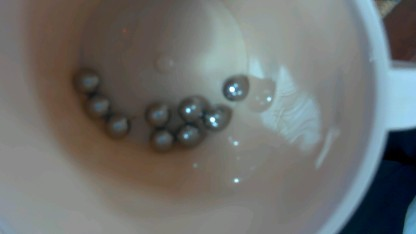ironball: (219, 71, 251, 100), (79, 93, 111, 122), (105, 114, 134, 141), (70, 66, 100, 91), (142, 100, 170, 125), (175, 122, 200, 150), (204, 105, 227, 135), (150, 131, 176, 157), (177, 92, 202, 118)
